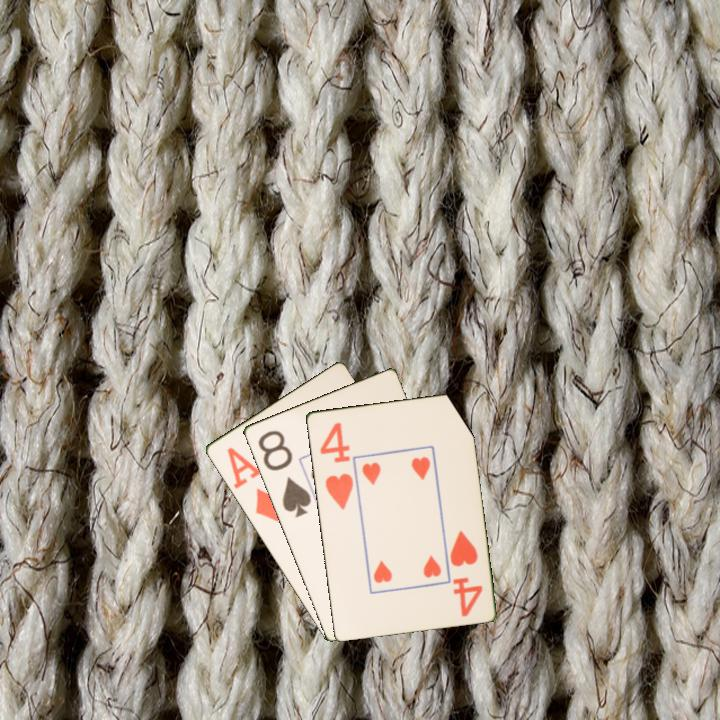4h: (316, 419, 356, 512), (446, 527, 485, 619)
8s: (254, 426, 314, 520)
Ad: (223, 443, 283, 525)
